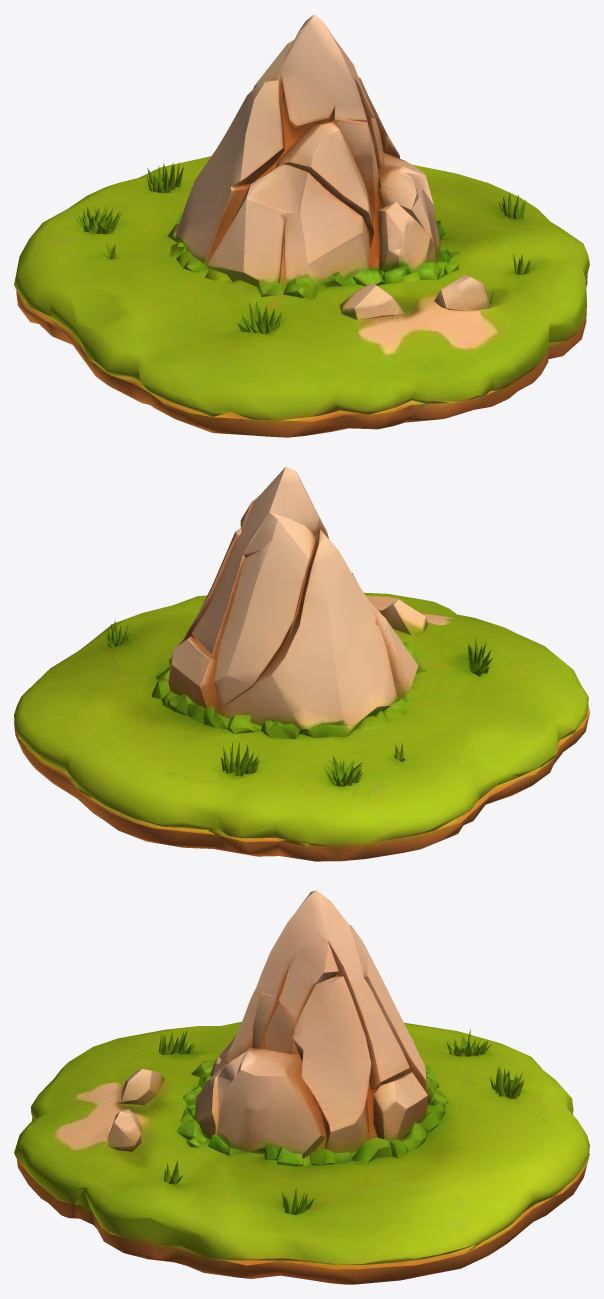
The model's file is floatingRockV3.glb.
3 views of the same model, one above another, from view 1: azimuth 30°, elevation 25°; view 2: azimuth 150°, elevation 25°; view 3: azimuth 270°, elevation 25° (orthographic). The views are drawn at different scales.
Parts seen in each view (by area): view 1: model; view 2: model; view 3: model.
Part boxes in pixels (box(x1,y1,x2,y2)): model: box(14, 14, 589, 437); model: box(14, 466, 589, 861); model: box(14, 890, 589, 1284).
Size of the model in its own units: 1.79 by 1.04 by 1.9.
Materials: 1 (1 with a texture image).
